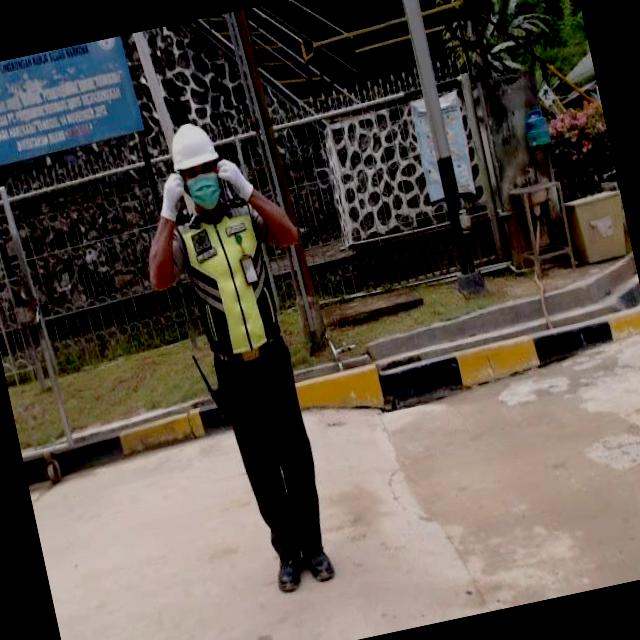vest: (170, 198, 292, 368)
